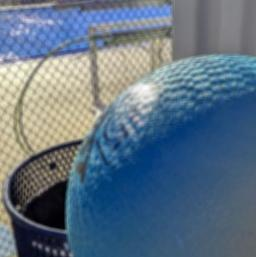algae: (65, 50, 256, 257)
